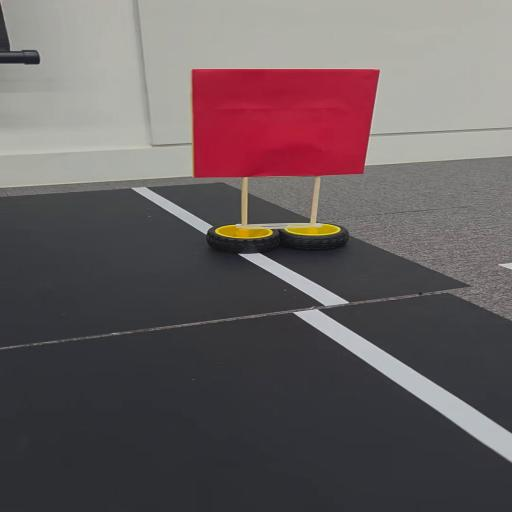Sign_A: (188, 64, 385, 261)
